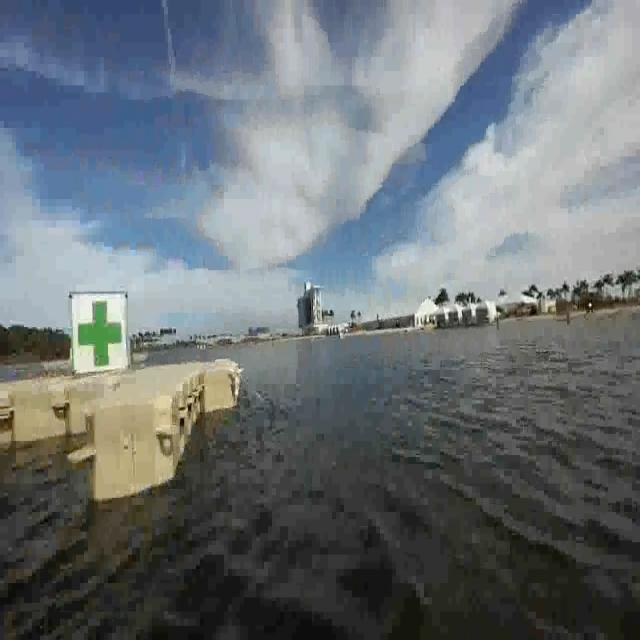blue-cross: (74, 295, 127, 374)
